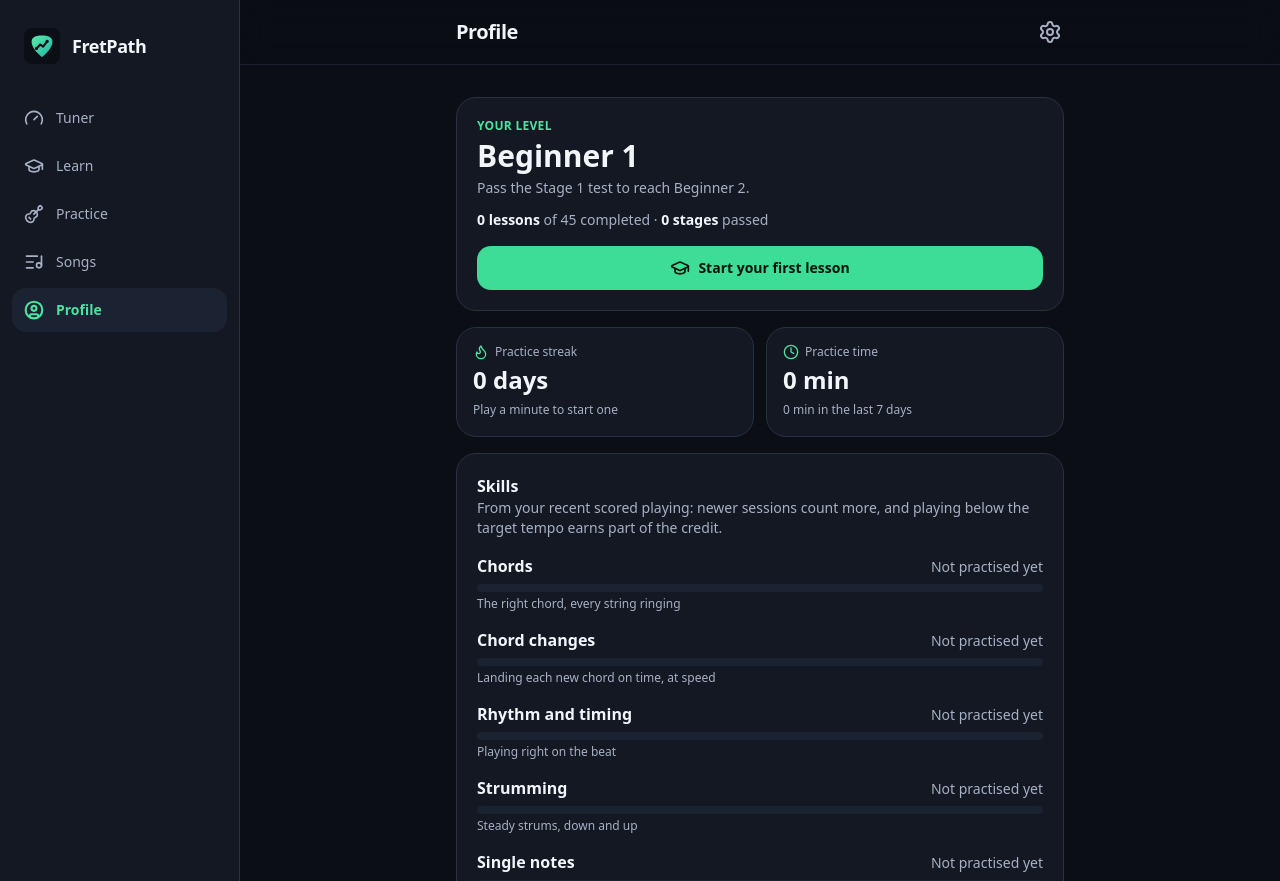
Scenario: app navigation › keeps the Profile tab active on the settings screen
What coordinates should you click on to do the following:
click the link named "Settings"
I would click on:
 (1050, 32)
Its box is [1038,20,1062,44].
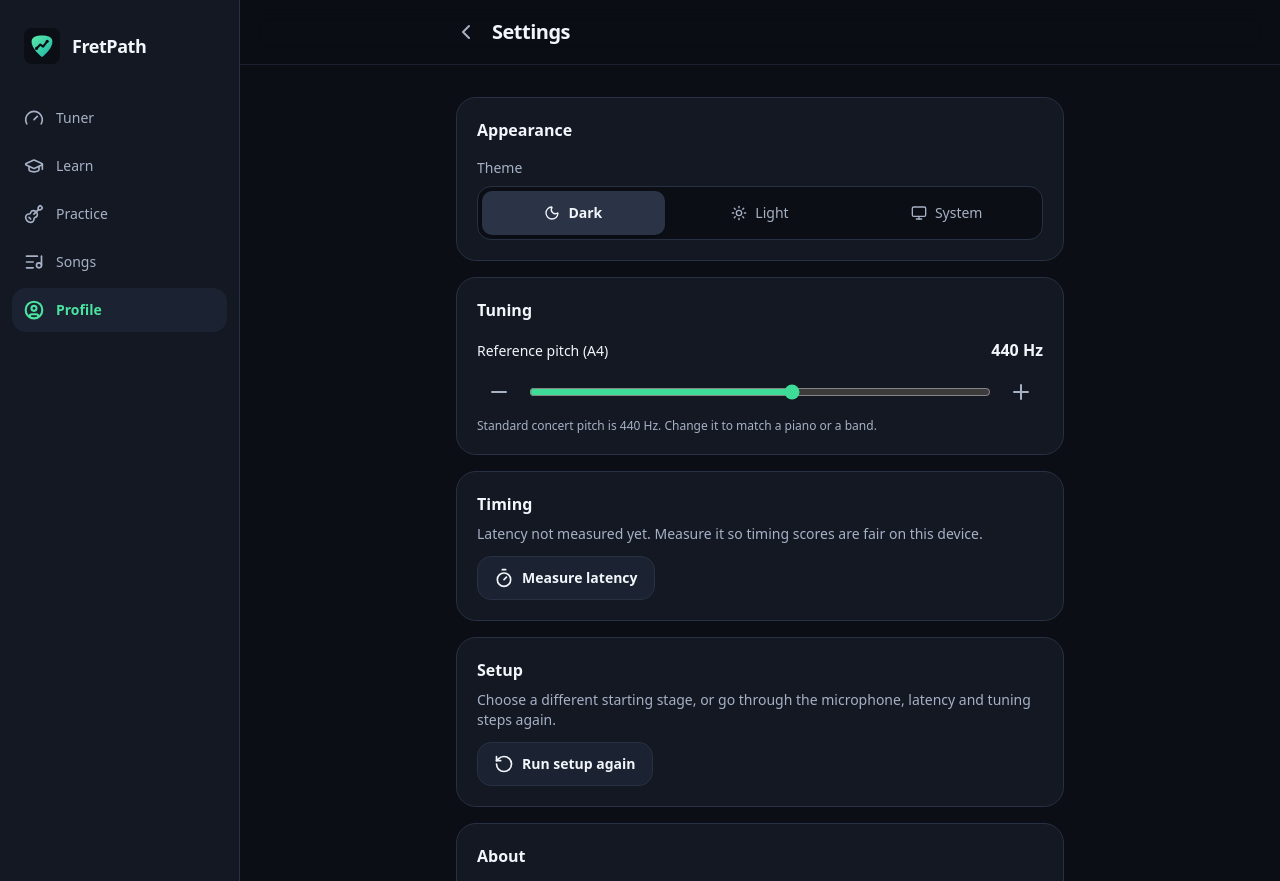
Expected: the heading "Settings" is shown, [492,18,570,45]
